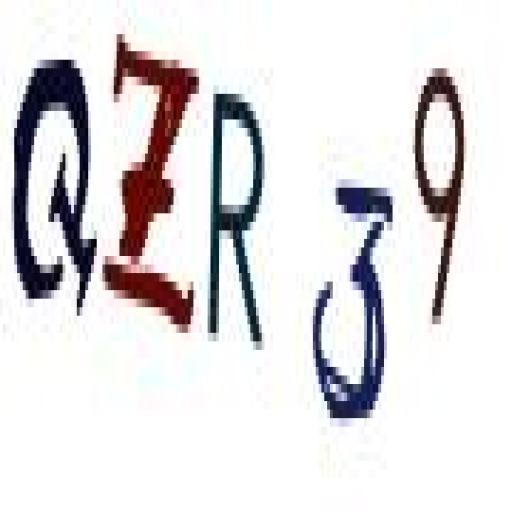3: (310, 151, 392, 431)
9: (413, 66, 470, 340)
Q: (9, 46, 98, 318)
R: (208, 75, 268, 355)
Z: (101, 19, 198, 349)
